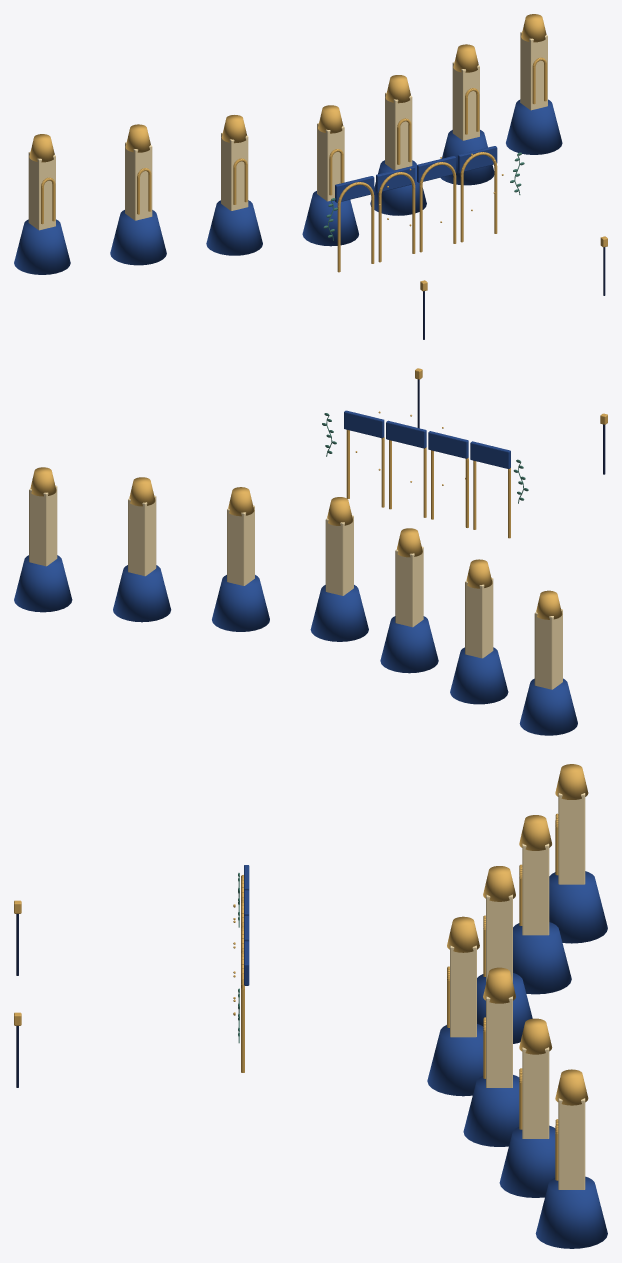
The model's file is observatory.glb.
3 renders of one model, top to bottom at view 1: azimuth 30°, elevation 25°; view 2: azimuth 150°, elevation 25°; view 3: azimuth 270°, elevation 25°, orthographic. The views are drawn at different scales.
Visible parts, largest first — view 1: Architecture_blue, Architecture_cream, Architecture_gold; view 2: Architecture_blue, Architecture_cream, Architecture_gold; view 3: Architecture_blue, Architecture_cream, Architecture_gold.
Part boxes in pixels (x1,y1,x2,y2): Architecture_blue: (14, 99, 562, 274); Architecture_cream: (28, 32, 547, 230); Architecture_gold: (29, 14, 607, 291); Architecture_blue: (14, 410, 577, 735); Architecture_cream: (29, 485, 562, 689); Architecture_gold: (30, 368, 607, 619); Architecture_blue: (244, 865, 607, 1248); Architecture_cream: (450, 793, 585, 1189); Architecture_gold: (14, 764, 588, 1180).
Size of the model in its own units: 26.4 by 6.44 by 19.73.
